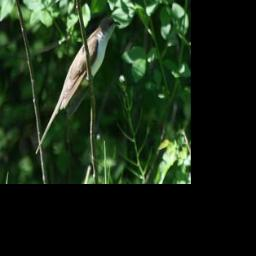Cuckoo: (34, 15, 120, 156)
